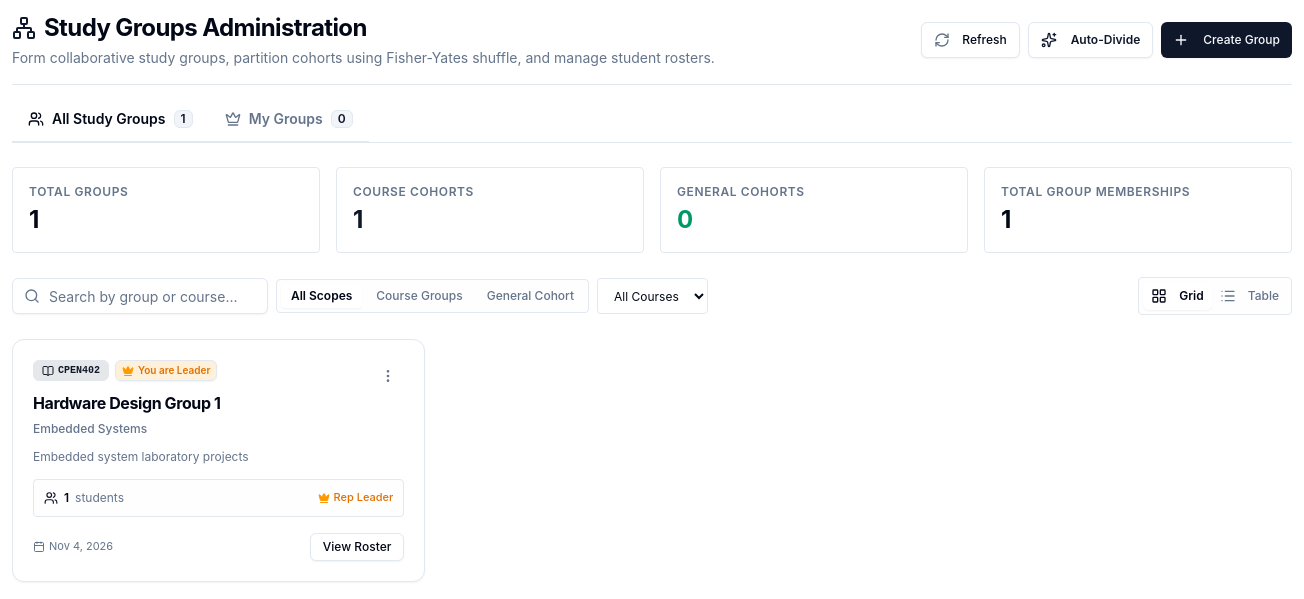
Test case: GroupsPage › toggles between Grid and Table views cleanly
Check: the element with test id "group-card-grp-1" is shown, box [12,339,425,582]
Note: Switch to Table view
Click the button with test id "view-table-btn".
click(1249, 296)  # box [1212,282,1287,310]
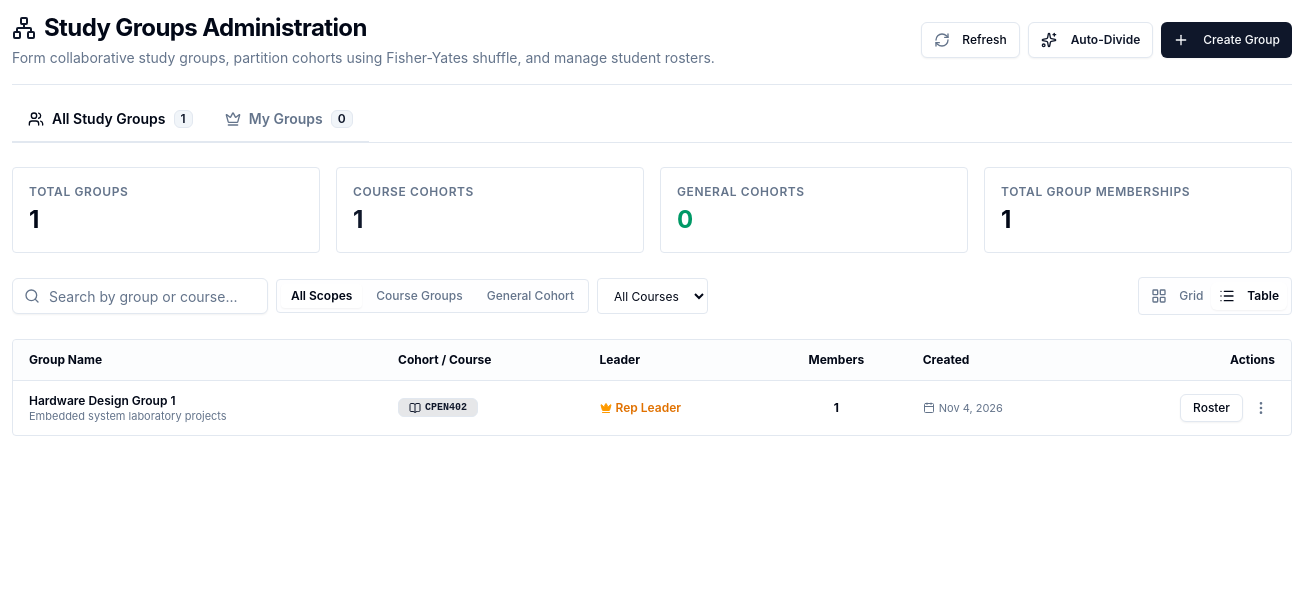
Check: the table is shown, box [13,340,1291,435]
Check: the column heading "Group Name" is shown, box [13,340,382,380]
Check: the column heading "Cohort / Course" is shown, box [382,340,584,380]
